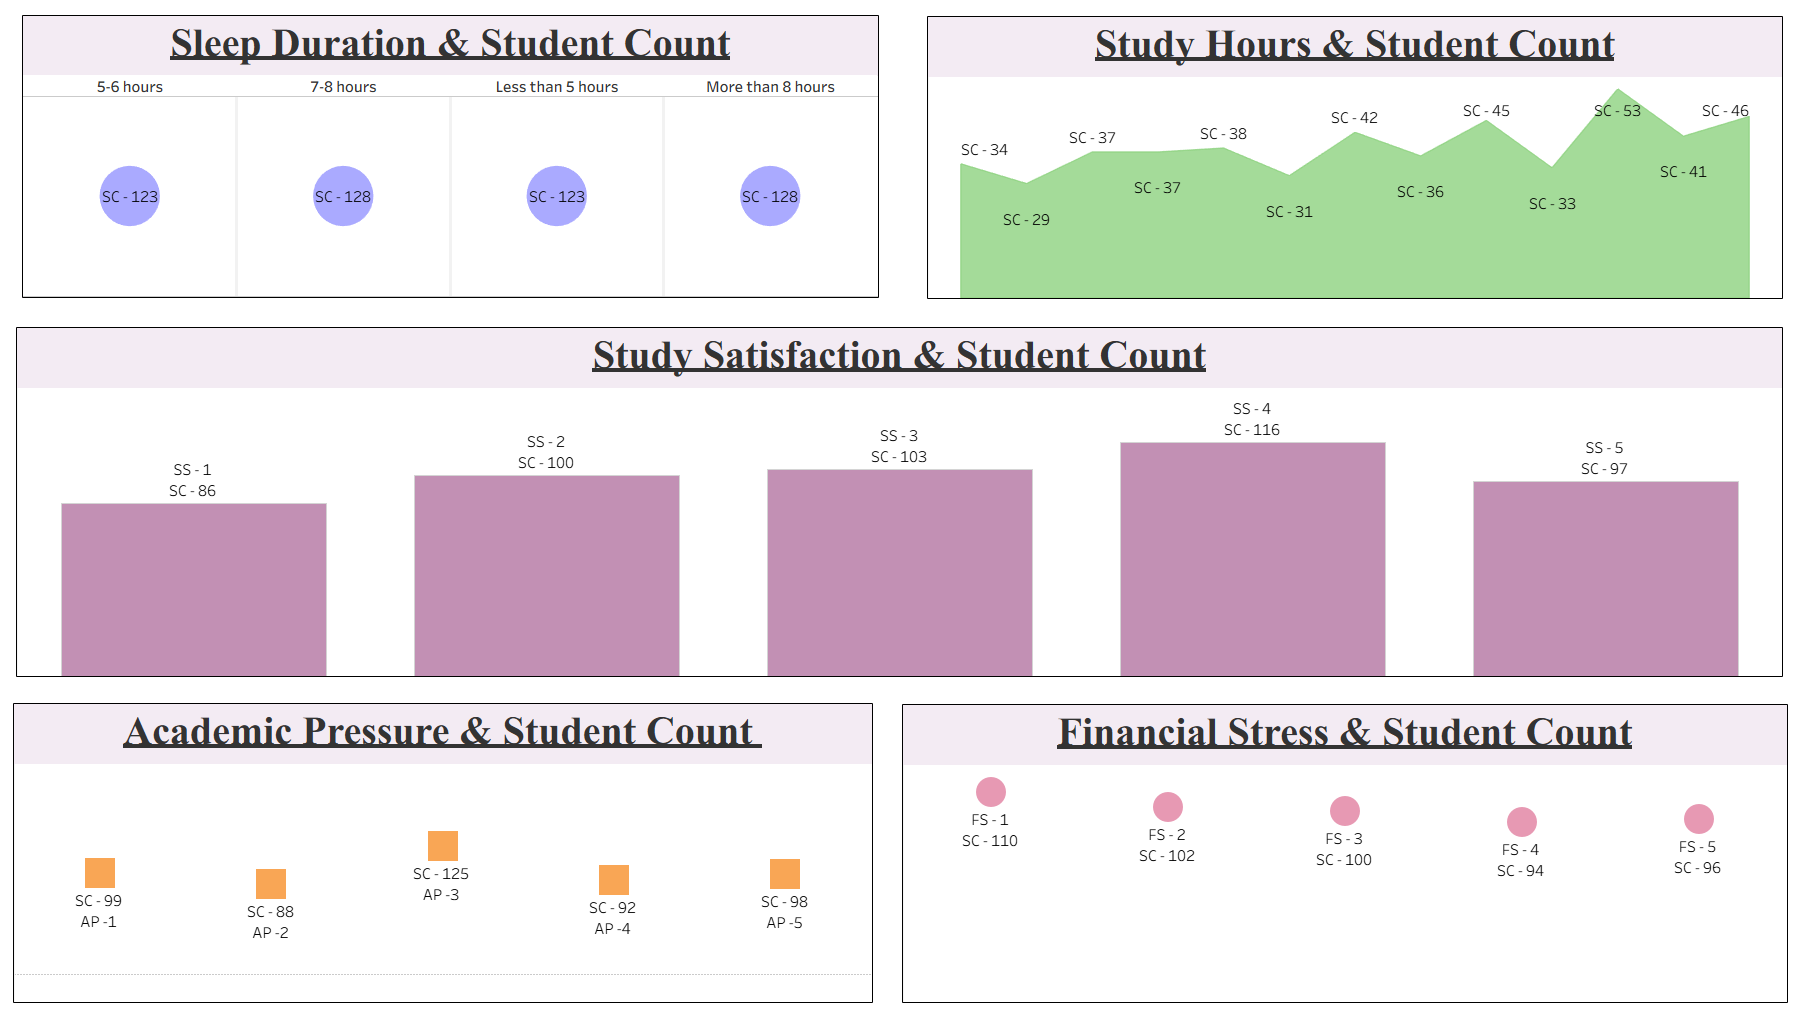

What the dashboard file says about the page in this screenshot:
{"tool":"tableau","page":{"name":"Dashboard 1","canvas":[1000,1000],"units":"permille","ordinal":0},"visuals":[{"type":"worksheet","title":"SD & SC","mark":"Pie","cols":["Sleep_Duration"],"box":[17.5,22.1,446.6,269.2]},{"type":"worksheet","title":"SH & SC","mark":"Area","rows":["Index_Column"],"cols":["Study_Hours"],"box":[488.8,23.3,446,269.2]},{"type":"worksheet","title":"SC & SC","mark":"Automatic","rows":["Index_Column"],"cols":["Study_Satisfaction"],"box":[14.5,319.4,920.3,333.3]},{"type":"worksheet","title":"AP & SC","mark":"Square","rows":["Index_Column"],"cols":["Academic_Pressure"],"box":[13.3,677.2,447.8,285.6]},{"type":"worksheet","title":"FS & SC","mark":"Circle","rows":["Index_Column"],"cols":["Financial_Stress"],"box":[476.2,678.3,461.7,284.4]}]}

Visuals, with their boxes on the dashboard's canvas, which has no fixed pixel size, in thousandths of its width and height (x1, y1, x2, y2). These are canvas units, not pixel positions in the 1804x1025 screenshot, which may show the page scaled, cropped or inside an application window:
"SD & SC" worksheet (Pie marks): <box>18,22,464,291</box>
"SH & SC" worksheet (Area marks): <box>489,23,935,292</box>
"SC & SC" worksheet: <box>14,319,935,653</box>
"AP & SC" worksheet (Square marks): <box>13,677,461,963</box>
"FS & SC" worksheet (Circle marks): <box>476,678,938,963</box>
